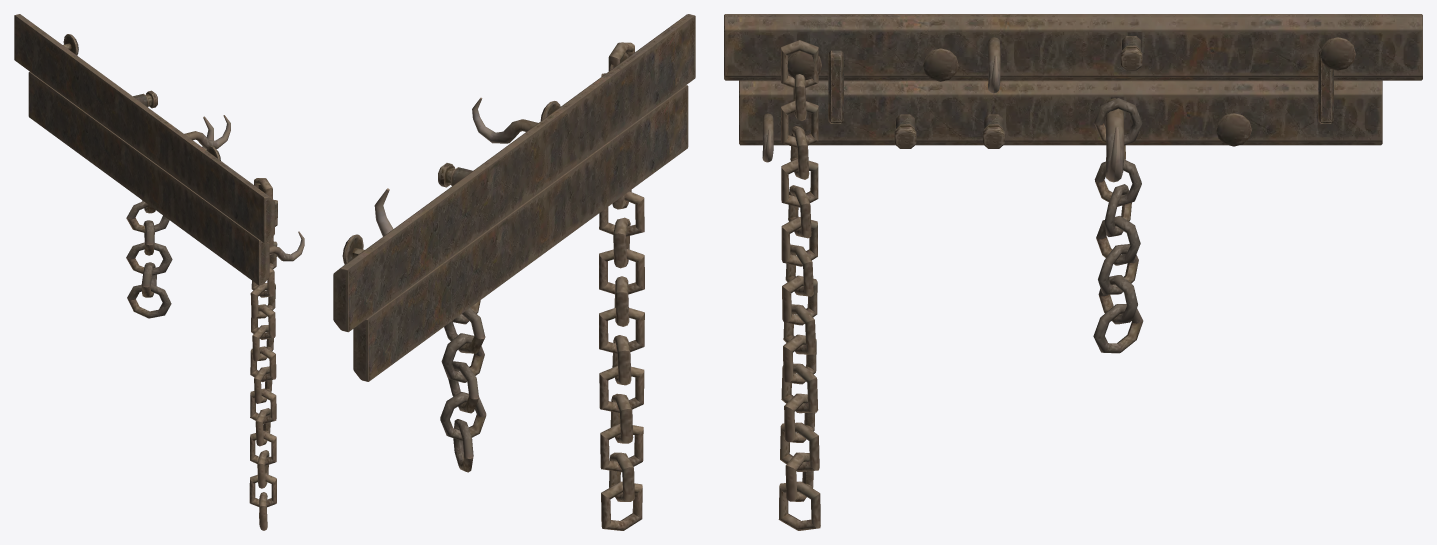
3 views of the same model, side by side, from view 1: azimuth 30°, elevation 25°; view 2: azimuth 150°, elevation 25°; view 3: azimuth 270°, elevation 25° (orthographic). The views are drawn at different scales.
Parts seen in each view (by area): view 1: SM_DR_TortureWall_01_LOD0; view 2: SM_DR_TortureWall_01_LOD0; view 3: SM_DR_TortureWall_01_LOD0.
Part boxes in pixels (x1=…): SM_DR_TortureWall_01_LOD0: x1=14, y1=14, x2=304, y2=530; SM_DR_TortureWall_01_LOD0: x1=333, y1=14, x2=695, y2=530; SM_DR_TortureWall_01_LOD0: x1=724, y1=14, x2=1422, y2=530.
Bounding box in the file's own units: 0.4164 × 1.58 × 2.01.
1 material, 1 textured.
